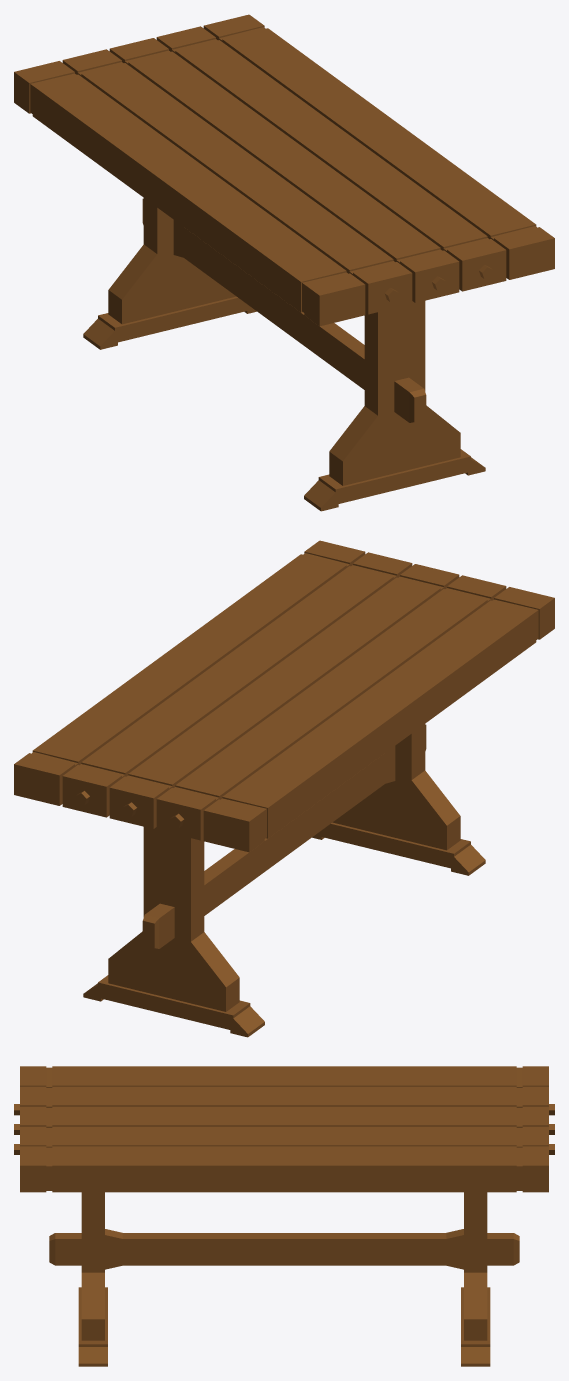
Rendered from Table.001.fbx.
3 views of the same model, one above another, from view 1: azimuth 30°, elevation 25°; view 2: azimuth 150°, elevation 25°; view 3: azimuth 270°, elevation 25° (orthographic). The views are drawn at different scales.
Parts seen in each view (by area): view 1: Table.001; view 2: Table.001; view 3: Table.001.
Boxes of the visible parts, x1,y1,x2,y2 form: Table.001: [14, 14, 554, 511]; Table.001: [14, 540, 554, 1037]; Table.001: [14, 1066, 554, 1366].
Size of the model in its own units: 0.8 by 0.81 by 1.84.
